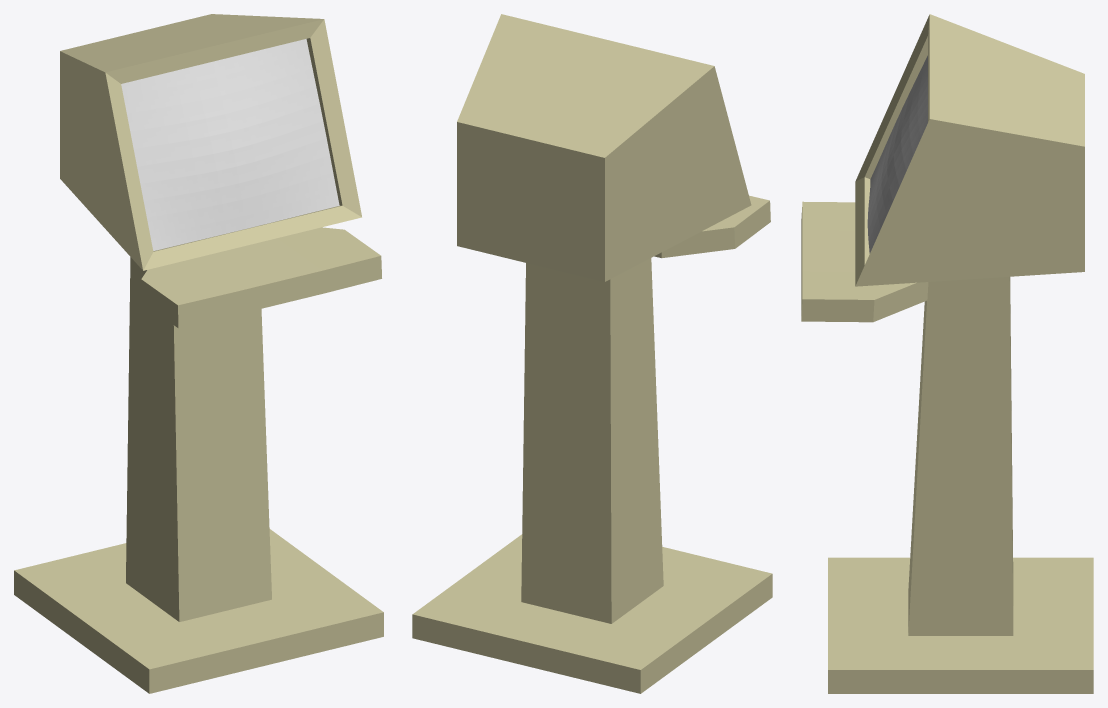
The model's file is terminal_w_screen.glb.
The picture shows the model from 3 angles, left to right: view 1: azimuth 30°, elevation 25°; view 2: azimuth 150°, elevation 25°; view 3: azimuth 270°, elevation 25°; orthographic projection. The views are drawn at different scales.
Parts seen in each view (by area): view 1: Cube, Plane; view 2: Cube; view 3: Cube, Plane.
Part boxes in pixels (x1=…): Cube: x1=14, y1=14, x2=383, y2=693; Plane: x1=121, y1=39, x2=339, y2=250; Cube: x1=412, y1=14, x2=772, y2=693; Cube: x1=801, y1=14, x2=1093, y2=693; Plane: x1=867, y1=55, x2=927, y2=253.
Size of the model in its own units: 2 by 4.74 by 2.2.
